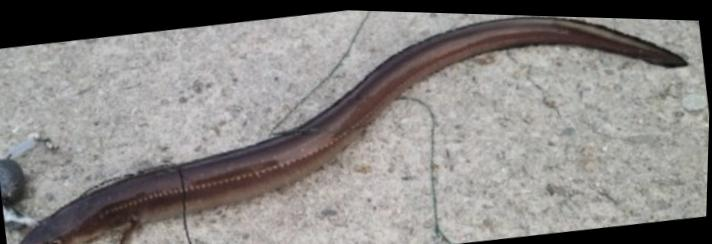fish: (20, 14, 687, 244)
